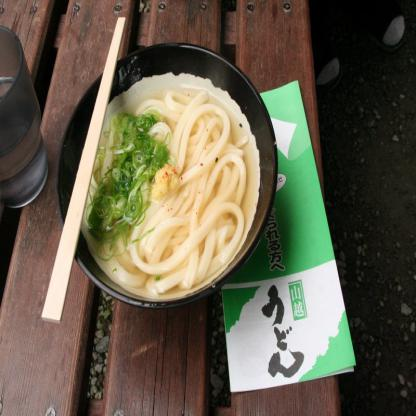Noodles: (82, 87, 248, 294)
